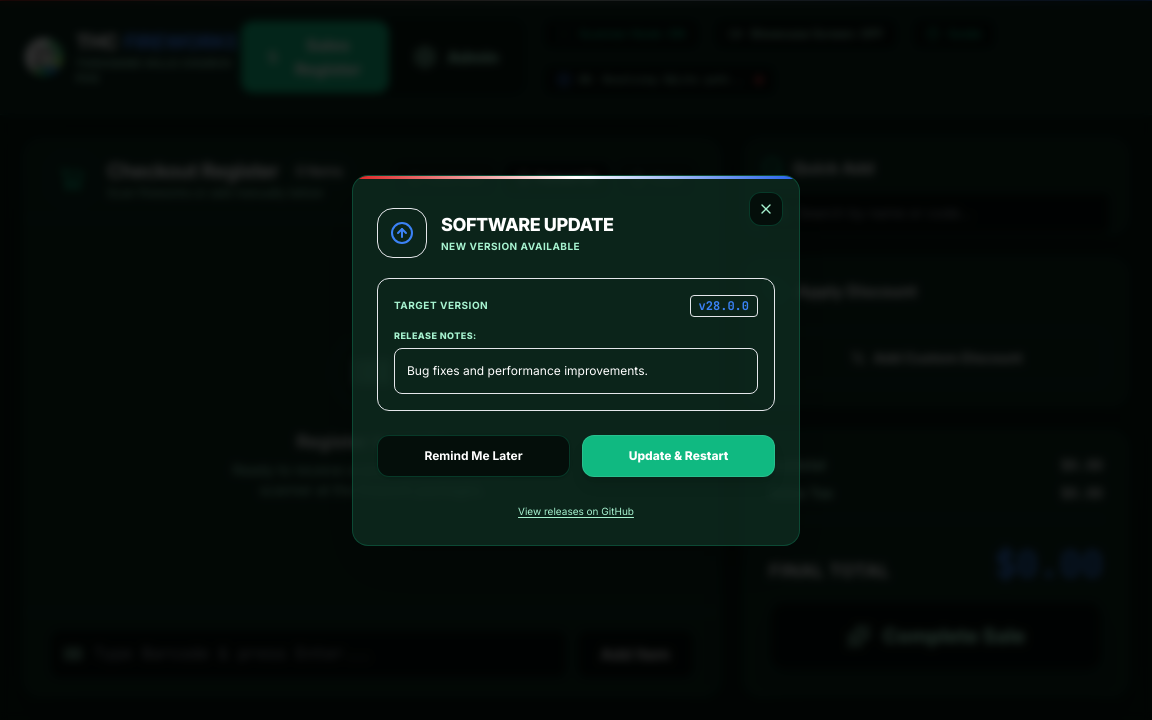
Scenario: App.tsx — Native Auto-Updater Modal › shows a permission advisory message when downloadAndInstall throws an "access denied" error
Click the button "Update & Restart" at {"x": 678, "y": 456}, box [582,434,775,476]
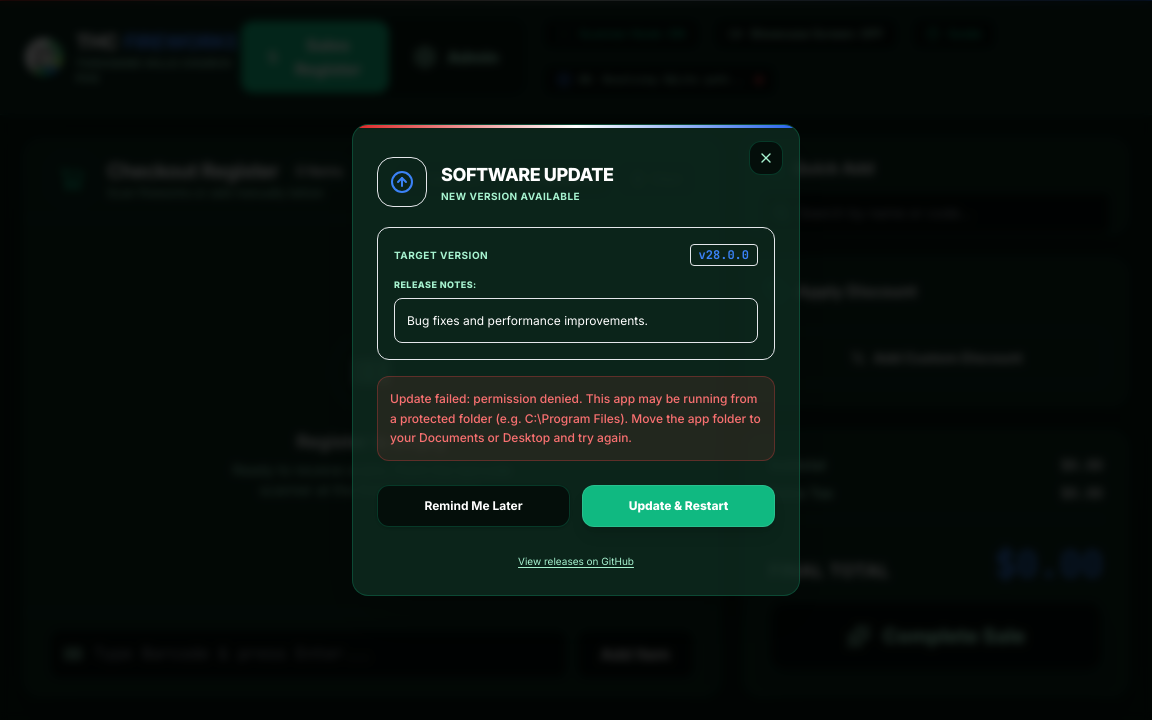
Result: the text "documents or desktop" is shown at [390,391,761,445]
